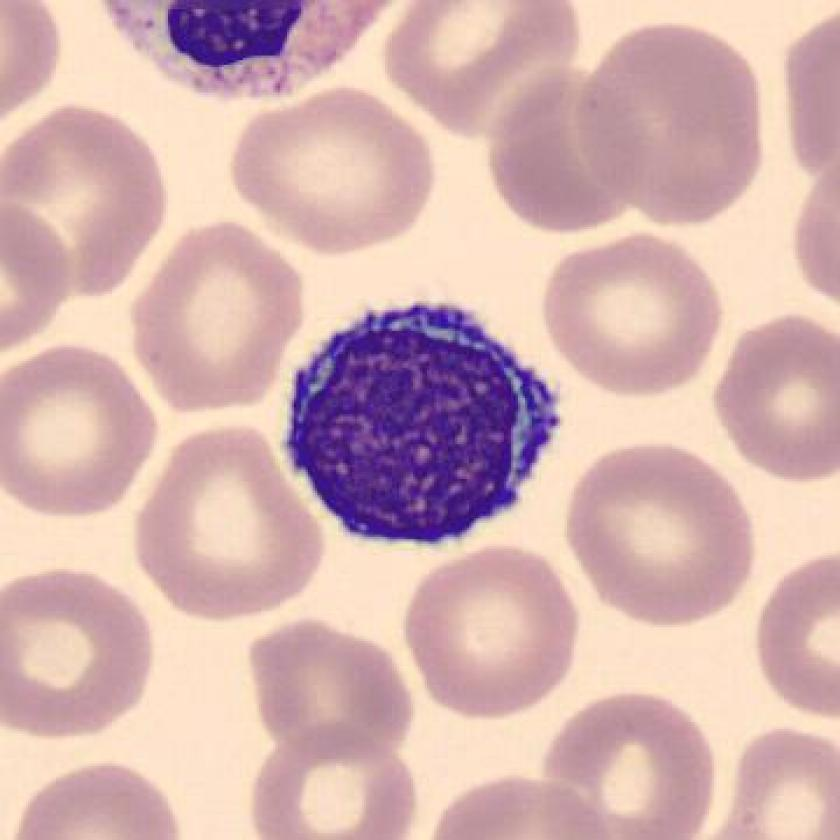lymphocyte: (267, 293, 575, 559)
